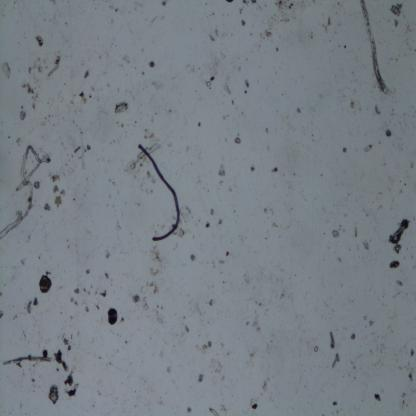Background material: (257, 1, 307, 43), (142, 249, 165, 300), (388, 219, 410, 254), (21, 81, 40, 109), (61, 370, 80, 398), (52, 347, 69, 374), (37, 272, 55, 297), (104, 304, 120, 329), (74, 140, 89, 166), (46, 53, 62, 77), (52, 183, 66, 208), (179, 204, 195, 224), (47, 382, 60, 405), (207, 357, 224, 374), (387, 256, 401, 274), (0, 60, 12, 79), (328, 224, 343, 239), (389, 2, 404, 16), (216, 159, 226, 180), (60, 334, 73, 350), (77, 88, 87, 108), (114, 100, 128, 114), (26, 298, 38, 312), (206, 75, 216, 91), (328, 330, 336, 350), (371, 390, 382, 403), (199, 340, 213, 350), (35, 33, 44, 48), (222, 82, 232, 95), (330, 353, 340, 366), (17, 109, 27, 122), (383, 126, 392, 140), (362, 141, 374, 151), (42, 200, 52, 212), (196, 371, 205, 383), (394, 278, 404, 288), (130, 294, 141, 303), (374, 102, 381, 116), (99, 287, 107, 299), (250, 401, 260, 410), (146, 60, 156, 69), (233, 135, 242, 145), (82, 68, 90, 79), (189, 251, 196, 263), (408, 368, 414, 382), (243, 76, 250, 88), (270, 166, 279, 174), (85, 266, 92, 276), (330, 399, 338, 407), (240, 17, 247, 26), (74, 286, 80, 295), (409, 349, 415, 358), (186, 406, 192, 414), (250, 165, 256, 173), (350, 334, 356, 341), (204, 222, 210, 228), (225, 250, 230, 257)
Cellulose filter fibre: (0, 144, 50, 242), (359, 0, 389, 94), (2, 353, 53, 367)
Microfibre: (138, 144, 180, 241)
